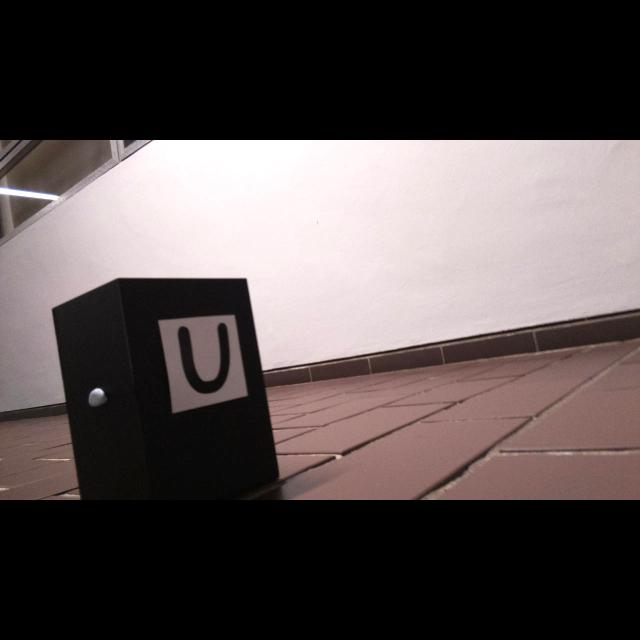U: (177, 321, 231, 394)
